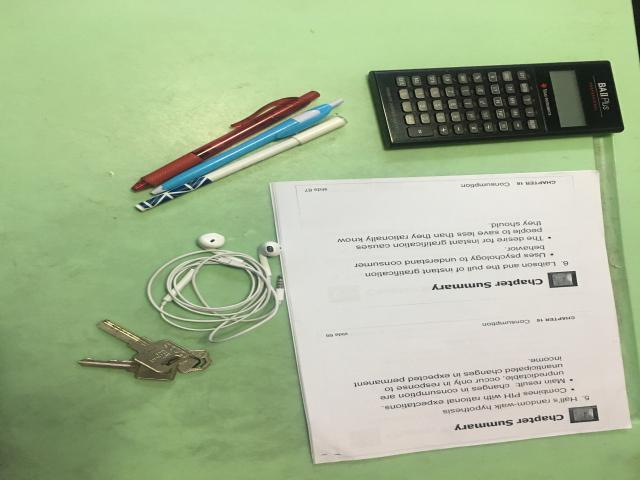Keys: (78, 320, 212, 381)
Pen: (130, 92, 347, 213)
paper: (270, 171, 632, 463)
wire: (137, 117, 347, 211), (147, 233, 285, 342)
